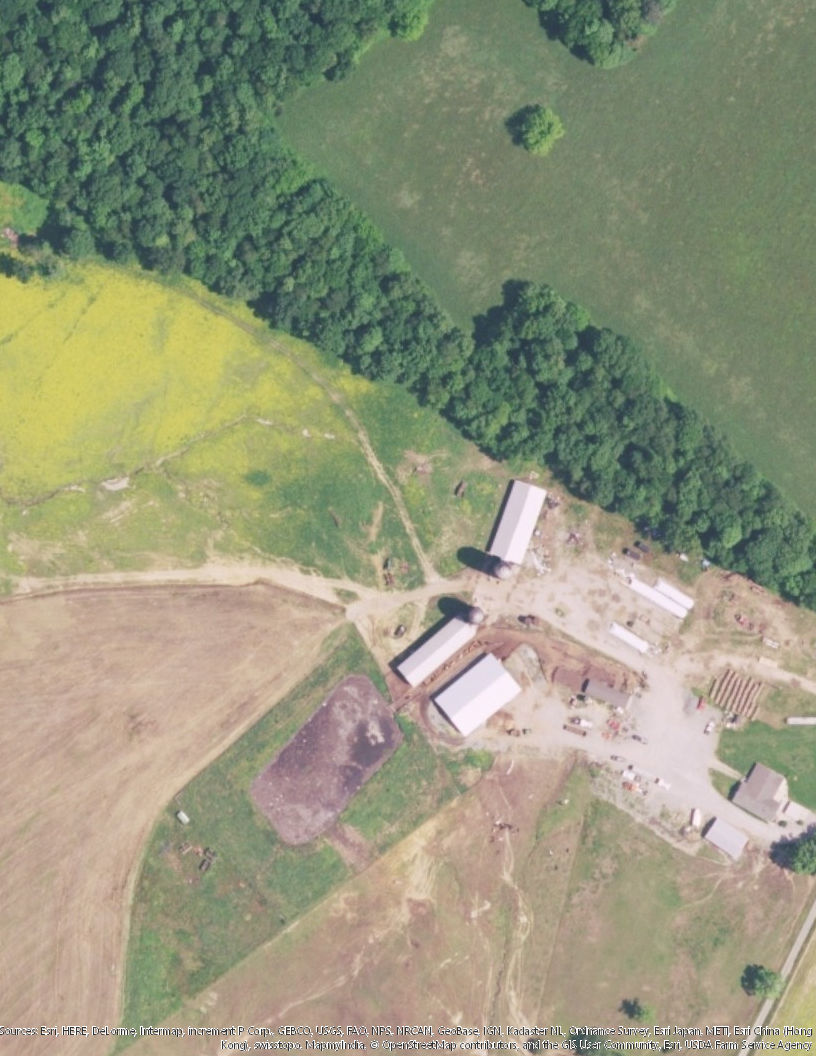cafo: (427, 650, 525, 734), (388, 612, 484, 690), (487, 473, 551, 569)
